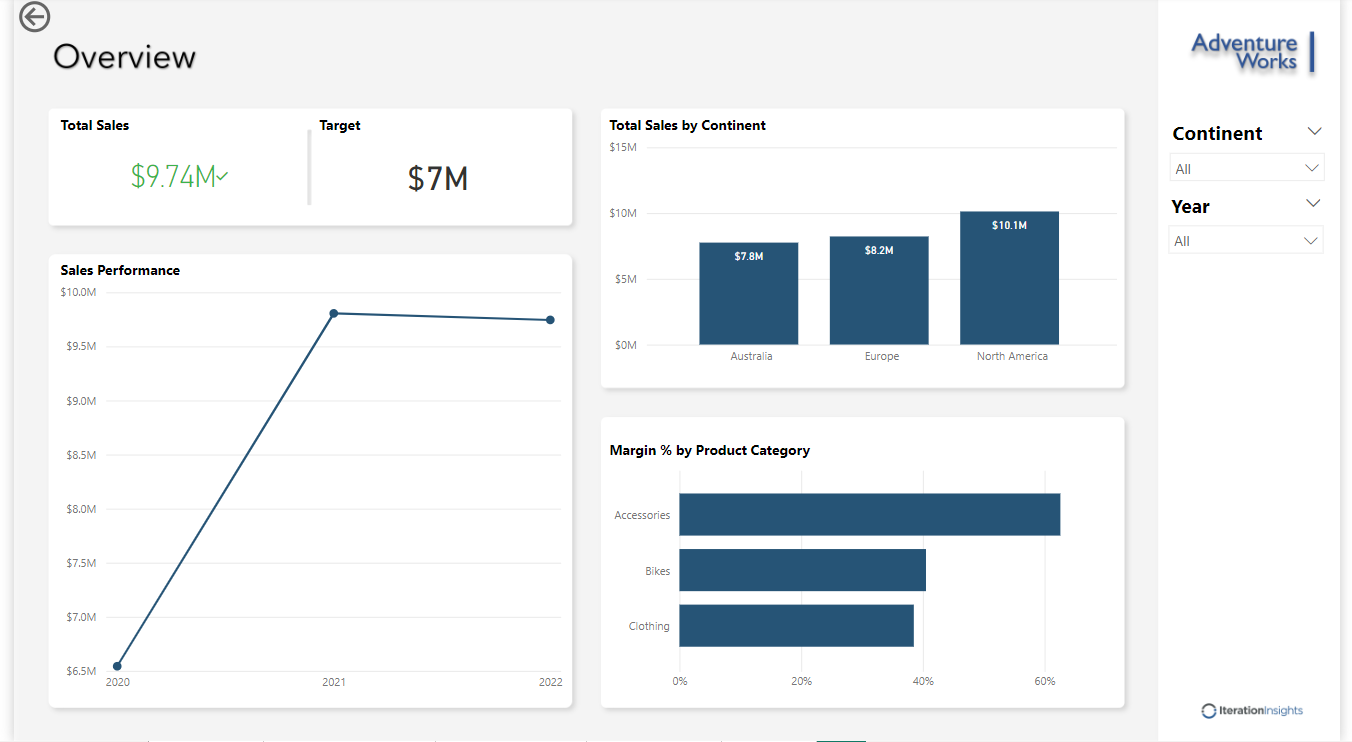

The page's visual inventory and layout, read from the dashboard file:
{"tool":"powerbi","page":{"name":"Overview","canvas":[1280,720],"ordinal":0},"visuals":[{"type":"clusteredColumnChart","title":"Total Sales by Continent","fields":{"Category":["Sales Territory.Sales Territory Continent"],"Y":["Sales.Total Sales"]},"box":[570,115,500,250],"z":0},{"type":"clusteredBarChart","title":"Margin % by Product Category","fields":{"Category":["Sales Product.Product Hierarchy.Product Category","Sales Product.Product Hierarchy.Product Subcategory"],"Y":["Sales.Total Margin %"]},"box":[569.8,428,500.1,250.7],"z":1000},{"type":"lineChart","title":"Sales Performance","fields":{"Category":["Order Date.Order Date Year"],"Y":["Sales.Total Sales"]},"box":[40,255,495,425],"z":2000},{"type":"kpi","title":"Total Sales","fields":{"Indicator":["Sales.Total Sales"],"TrendLine":["Order Date.Order Date Year"],"Goal":["Sales.Target"]},"box":[40,115,240,100],"z":3000},{"type":"card","title":"Target","fields":{"Values":["Sales.Target"]},"box":[290,115,240,100],"z":4000},{"type":"slicer","fields":{"Values":["Sales Territory.Sales Territory Continent"]},"box":[1105,115,170,70],"z":5000},{"type":"slicer","fields":{"Values":["Order Date.Order Date Year"]},"box":[1104.2,185,170,69.7],"z":6000},{"type":"actionButton","box":[0,0,100,40],"z":7000}]}

Visuals, with their boxes in screenshot pixels (x1, y1, x2, y2), scaled from the page's 1280x720 canvas onto the 1352x742 screenshot:
"Total Sales by Continent" clusteredColumnChart: (602, 119, 1130, 376)
"Margin % by Product Category" clusteredBarChart: (602, 441, 1130, 699)
"Sales Performance" lineChart: (42, 263, 565, 701)
"Total Sales" kpi: (42, 119, 296, 222)
"Target" card: (306, 119, 560, 222)
slicer - Sales Territory.Sales Territory Continent: (1167, 119, 1347, 191)
slicer - Order Date.Order Date Year: (1166, 191, 1346, 262)
actionButton: (0, 0, 106, 41)
